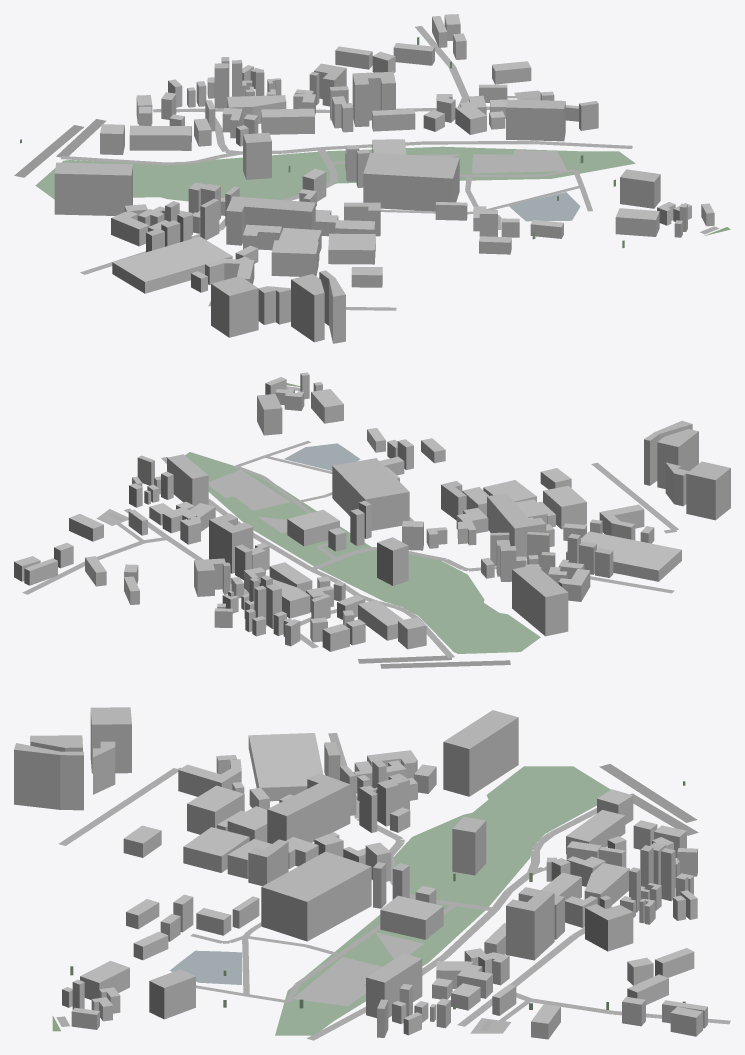
The picture shows the model from 3 angles, top to bottom: view 1: azimuth 30°, elevation 25°; view 2: azimuth 150°, elevation 25°; view 3: azimuth 270°, elevation 25°; orthographic projection. The views are drawn at different scales.
Size of the model in its own units: 574 by 50.25 by 562.
